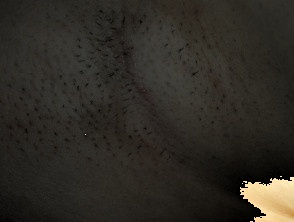vitiligo: (0, 0, 262, 199)
